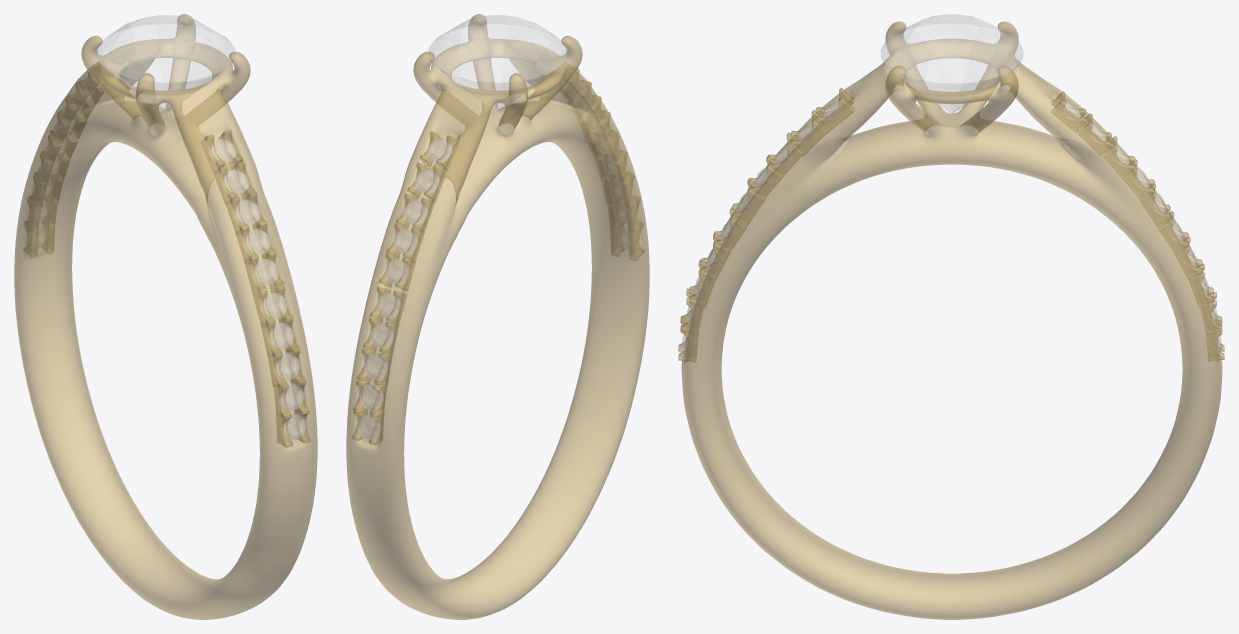
3 renders of one model, left to right at view 1: azimuth 30°, elevation 25°; view 2: azimuth 150°, elevation 25°; view 3: azimuth 270°, elevation 25°, orthographic. The views are drawn at different scales.
Visible parts, largest first — view 1: Ring, Diamond; view 2: Ring, Diamond; view 3: Ring, Diamond.
Part boxes in pixels (<box>): Ring: <box>14,14,317,619</box>; Diamond: <box>26,15,305,439</box>; Ring: <box>346,14,649,619</box>; Diamond: <box>357,15,627,439</box>; Ring: <box>678,21,1224,619</box>; Diamond: <box>682,14,1221,351</box>.
Bounding box in the file's own units: 0.6116 × 2.75 × 2.33.
